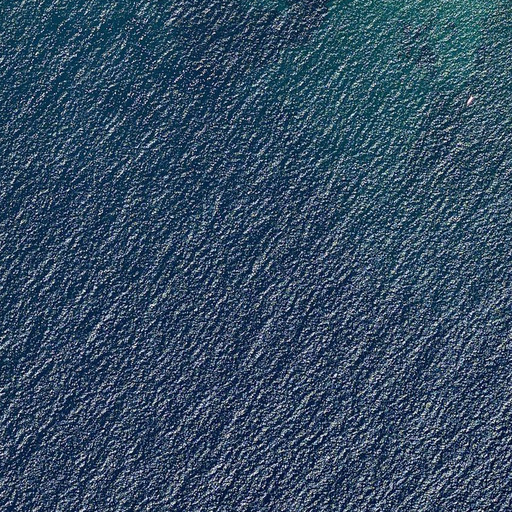ship: (465, 94, 474, 105)
